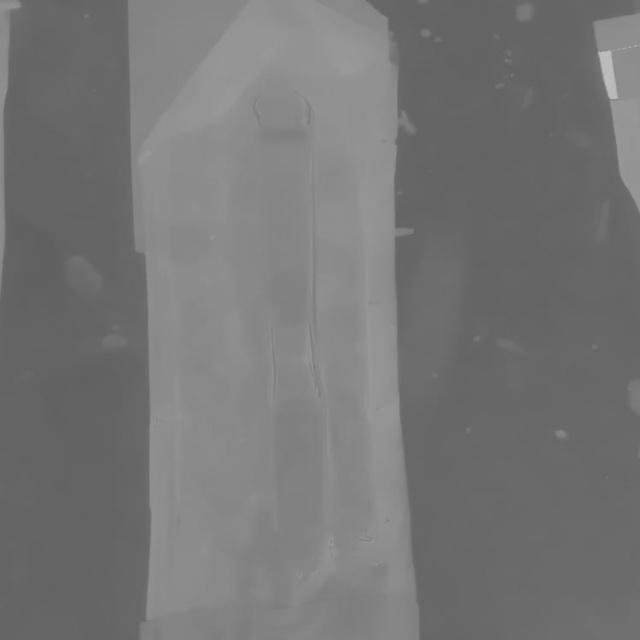separador: (252, 86, 325, 585)
